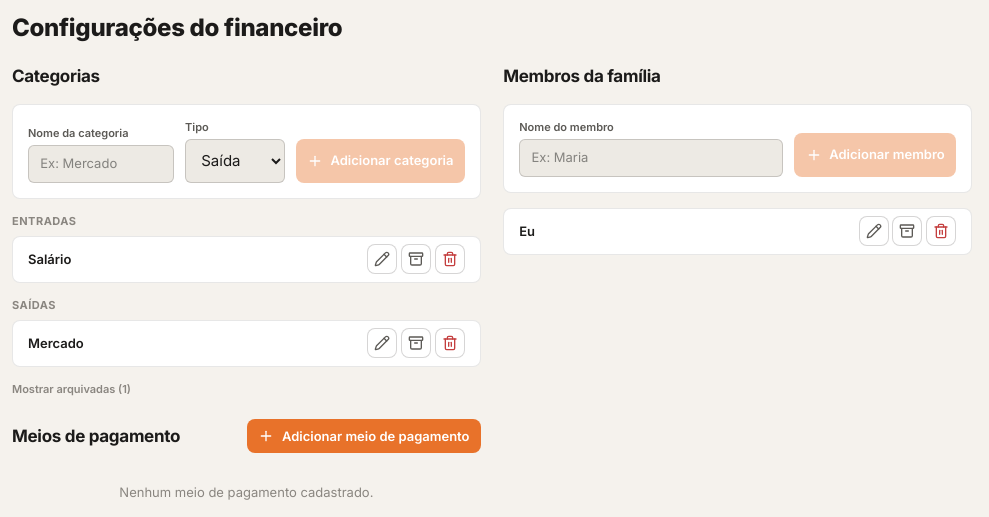
Test: FinanceSettingsPage › shows the in-use error and keeps archive as an alternative when deleting a category fails
The width and height of the screenshot is (989, 517).
Click the button named "Excluir Mercado".
click(450, 343)  # box 435,328 -> 465,358
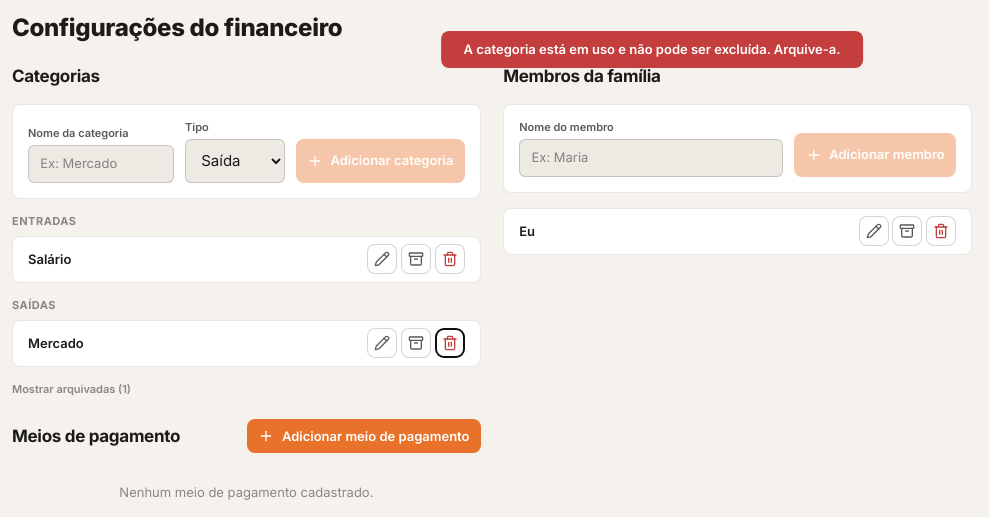
expect the button named "Arquivar Mercado" is shown: met, box 401,328 -> 431,358
expect the message reads "A categoria está em uso e não pode ser excluída. Arquive-a.": met, box 464,41 -> 840,57
